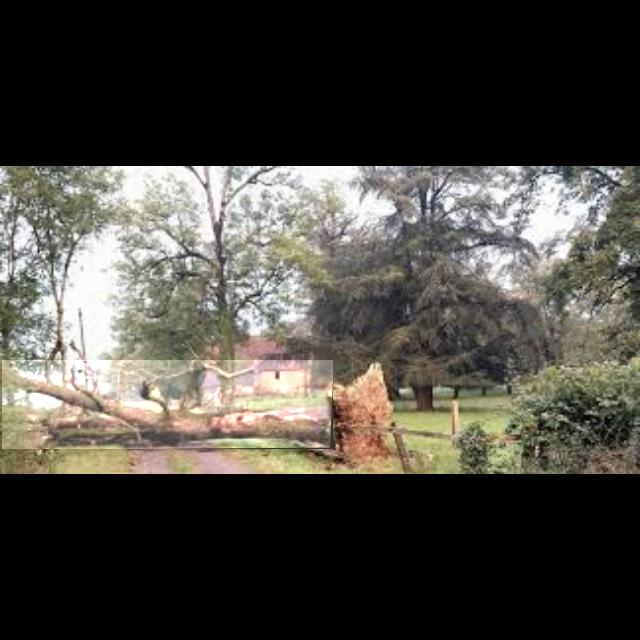Fallen Tree: (2, 360, 334, 450)
